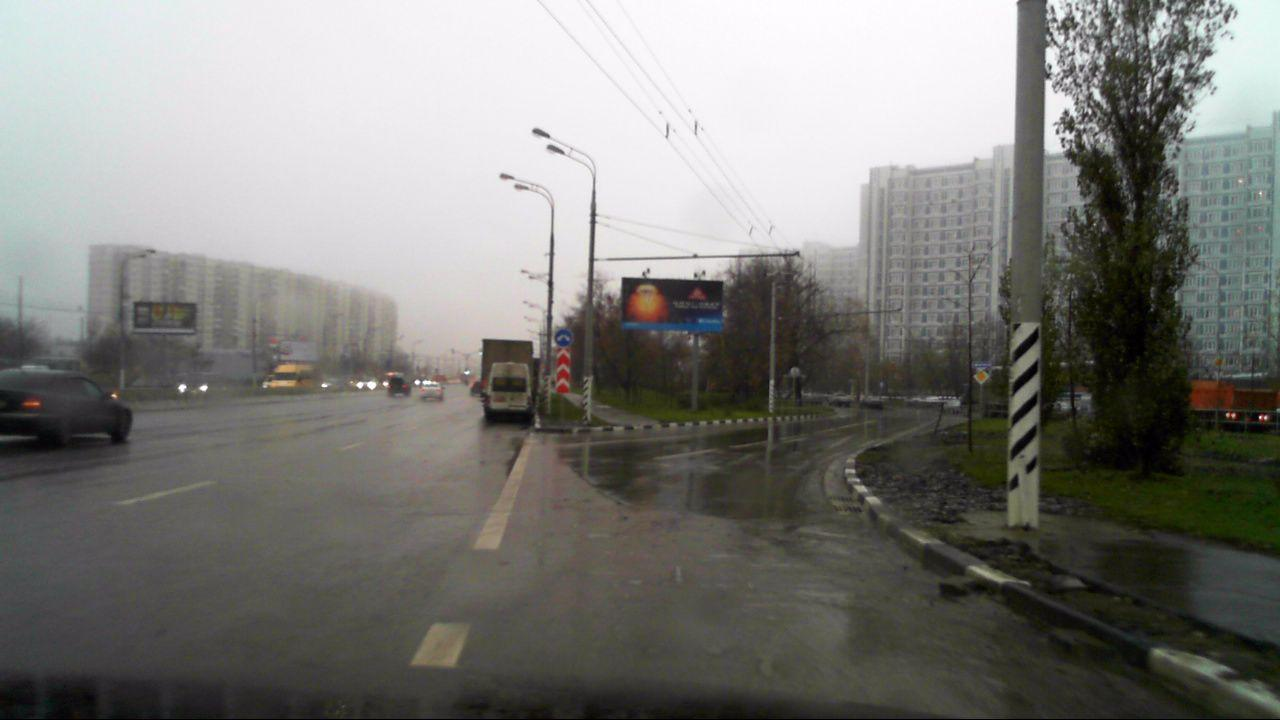road_sign: (557, 348, 570, 393), (555, 328, 574, 347), (973, 369, 990, 384)
